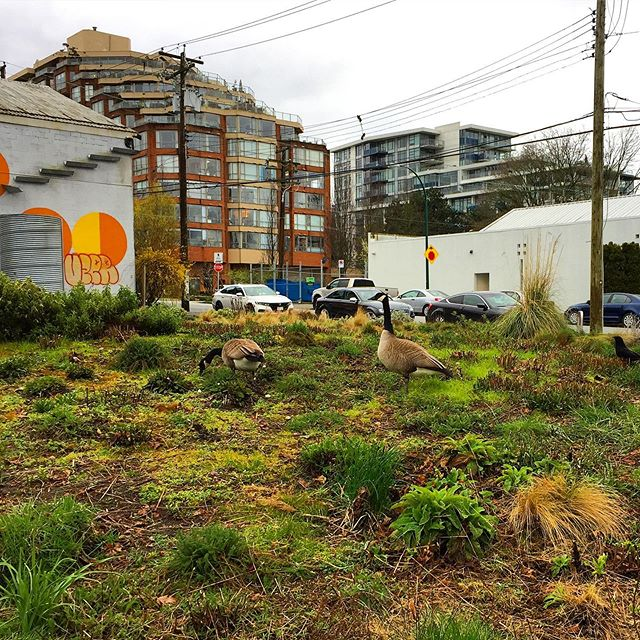animal: (359, 286, 454, 400), (189, 333, 282, 407)
building: (42, 41, 322, 252), (261, 2, 640, 132), (332, 125, 620, 276), (1, 81, 134, 300)
car: (317, 279, 411, 322), (432, 287, 526, 330), (210, 275, 295, 320)
graffiti: (64, 246, 134, 296)
grass: (11, 316, 640, 640)
